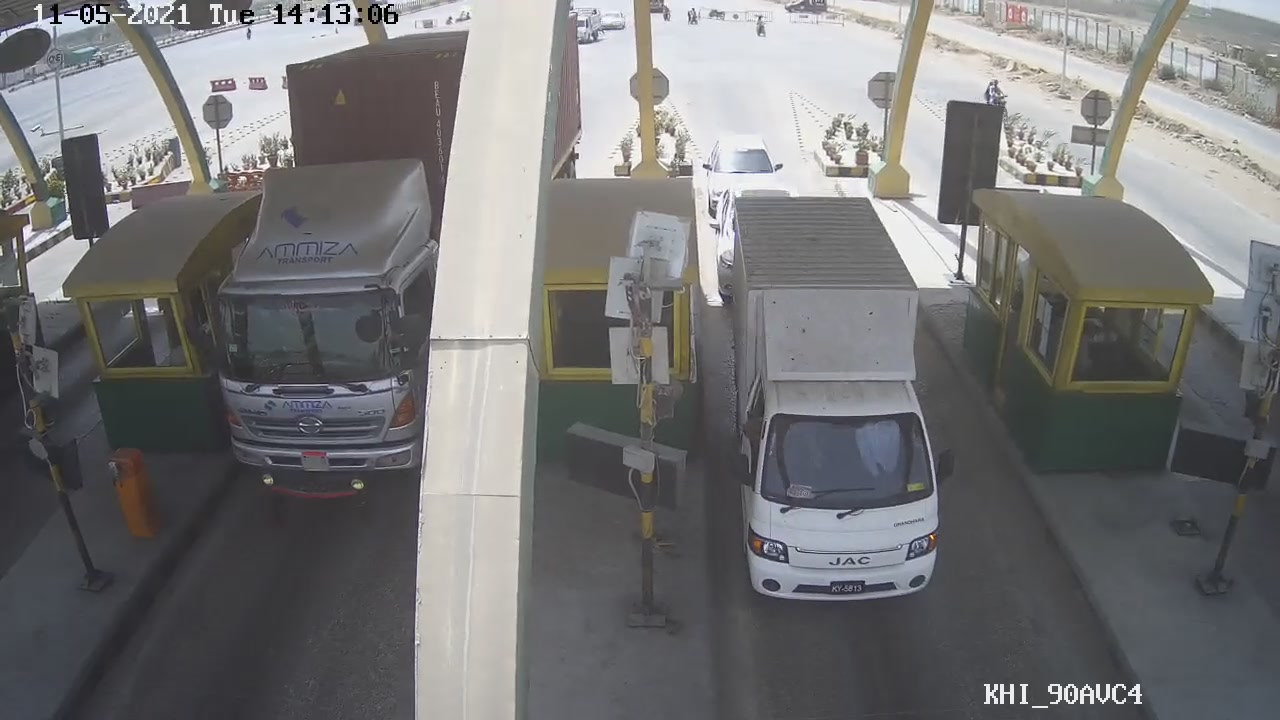F2: (726, 182, 941, 608)
